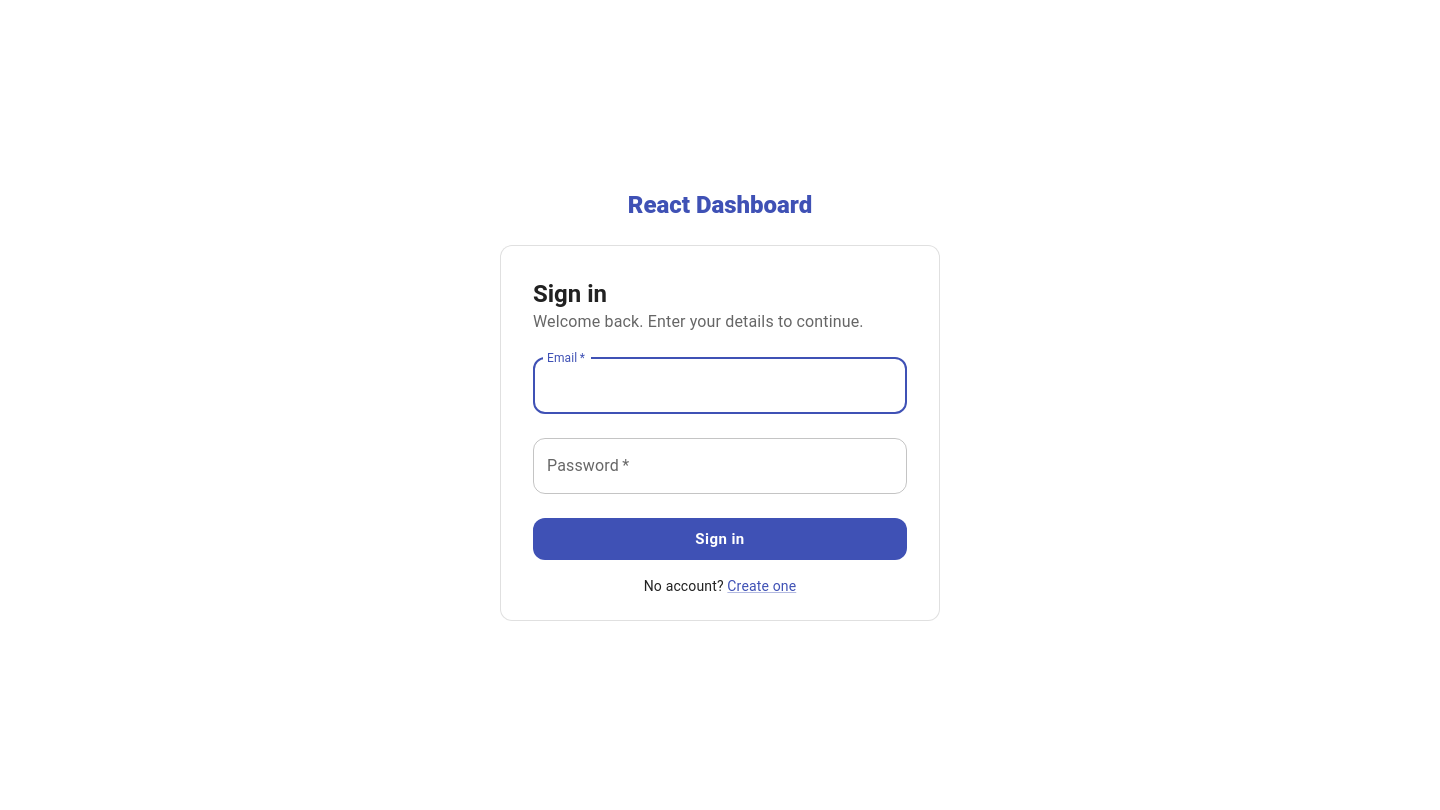
Test case: App (integration) › without a stored session, redirects to login, then back to the requested page after signing in
Type "ada@example.com" into the field labelled "Email *". click: {"x": 720, "y": 386}
box: [533,358,907,414]
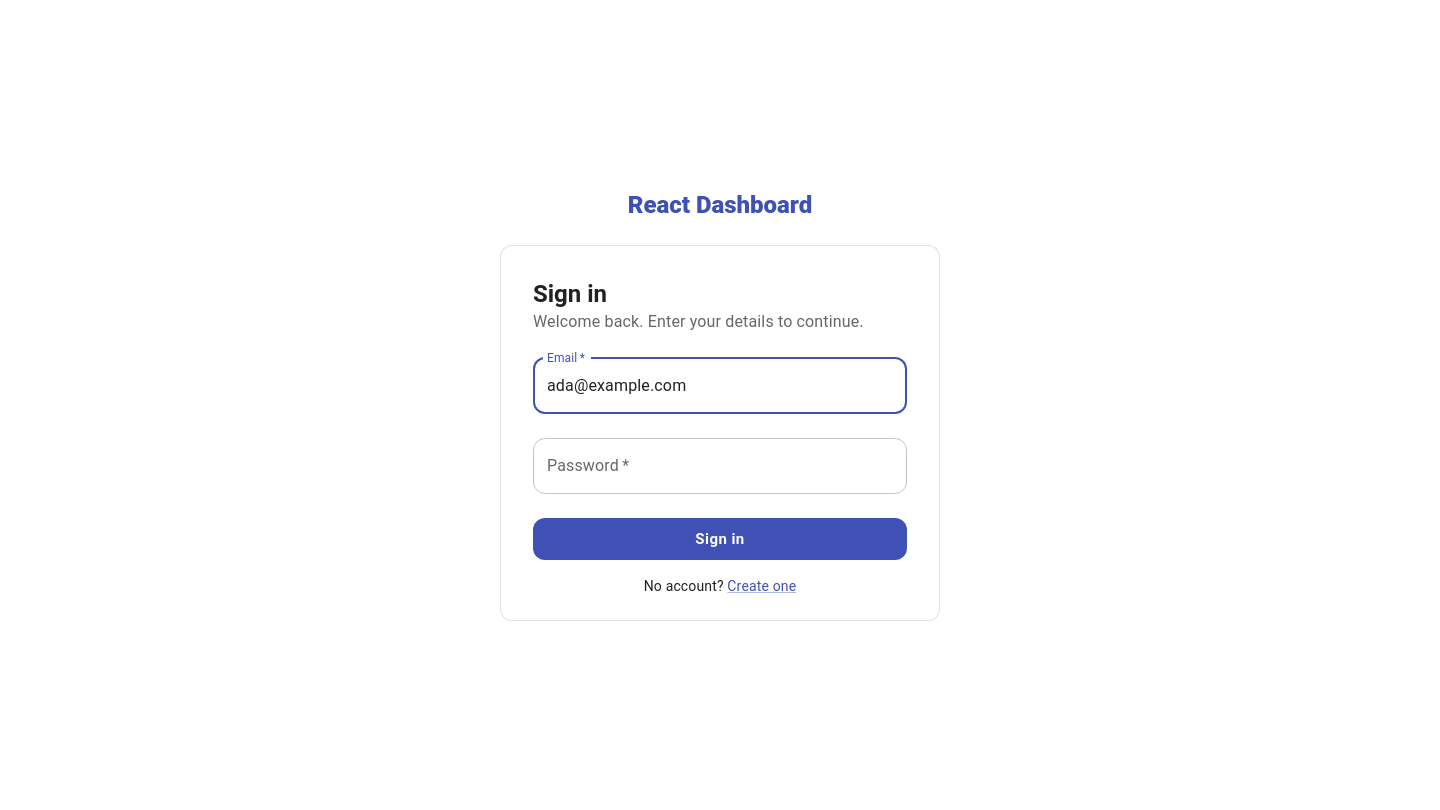
Type "Secret123" into the password field labelled "Password *". click: {"x": 720, "y": 466}
box: [533,438,907,494]
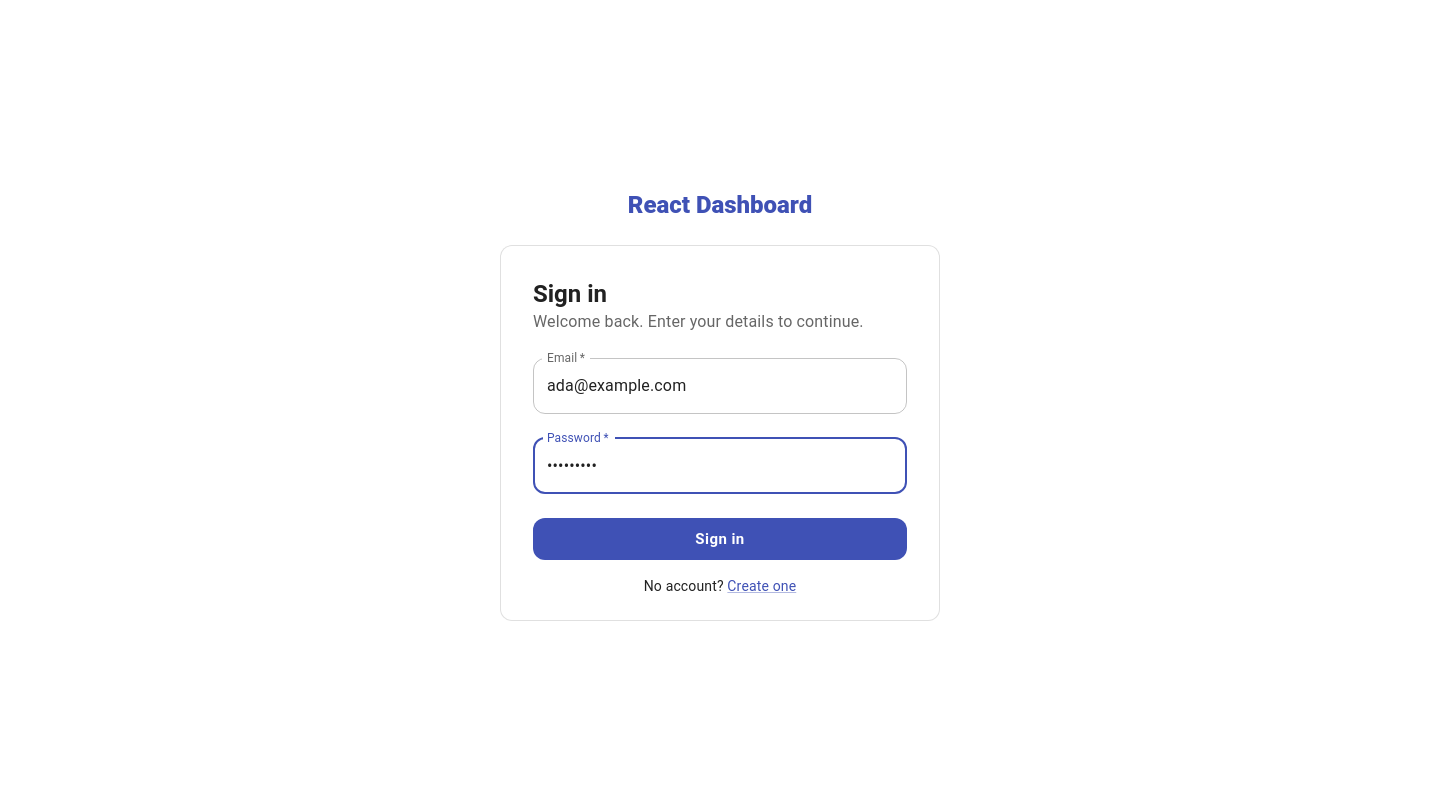
Click the button "Sign in". click: {"x": 720, "y": 539}
box: [533,518,907,560]
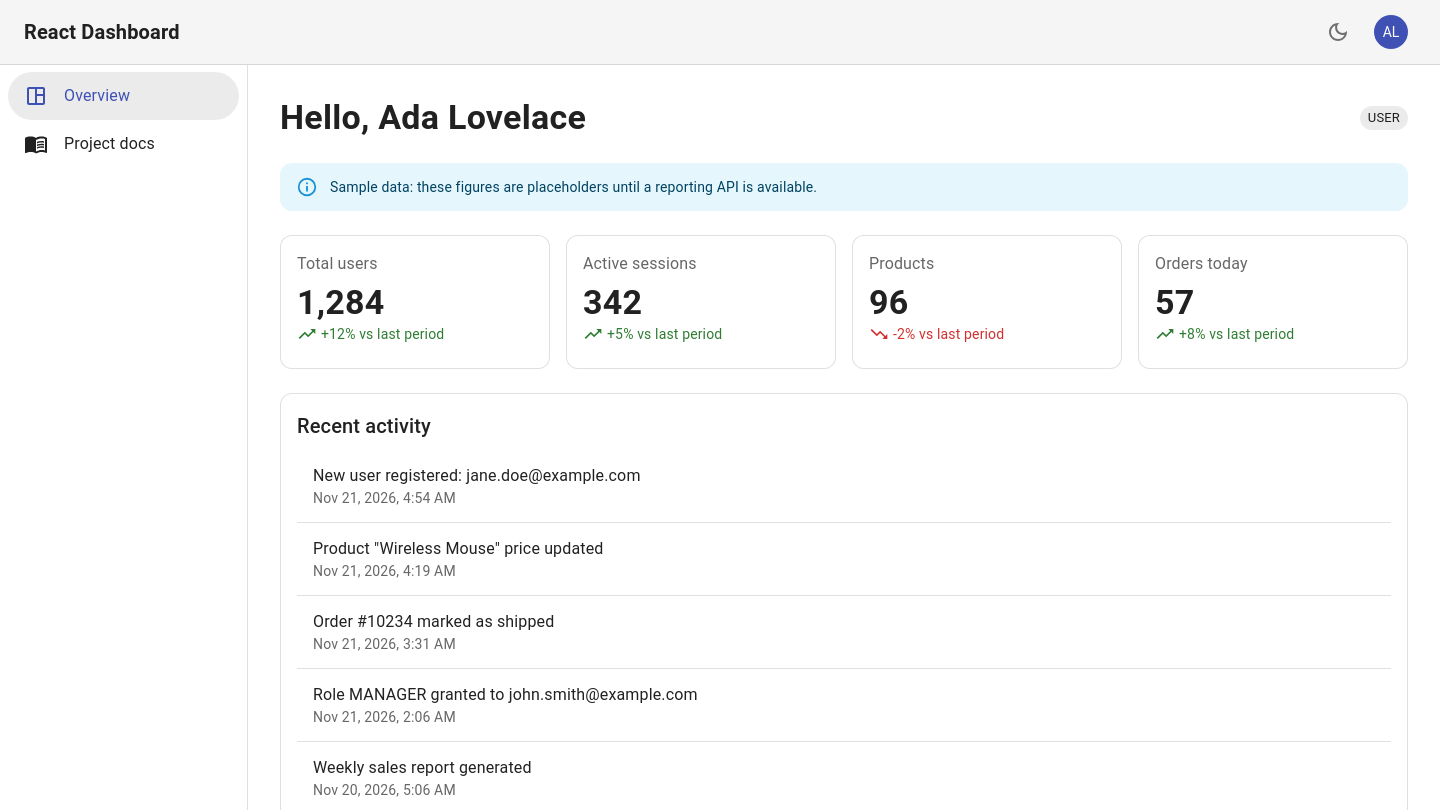
Now the heading "Hello, Ada Lovelace" is shown, box [280,97,586,139]
